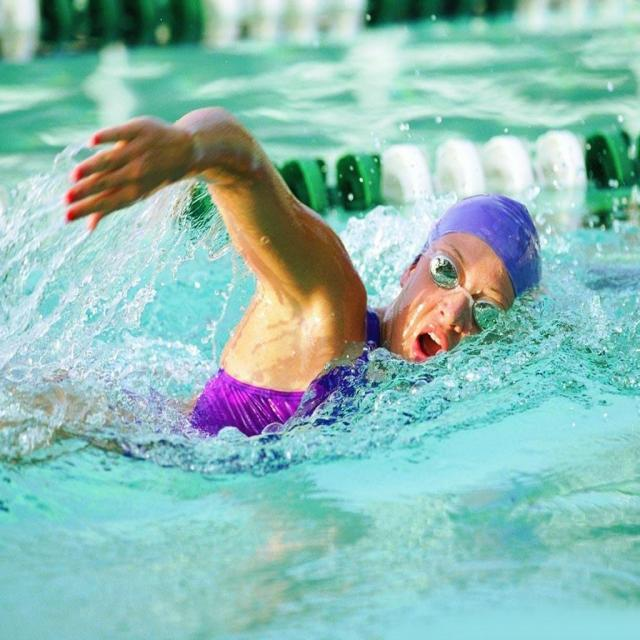nomask: (409, 238, 509, 372)
